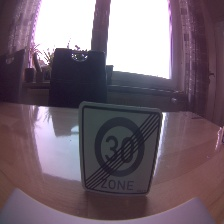dreisiger_zone_ende: (78, 100, 162, 196)
